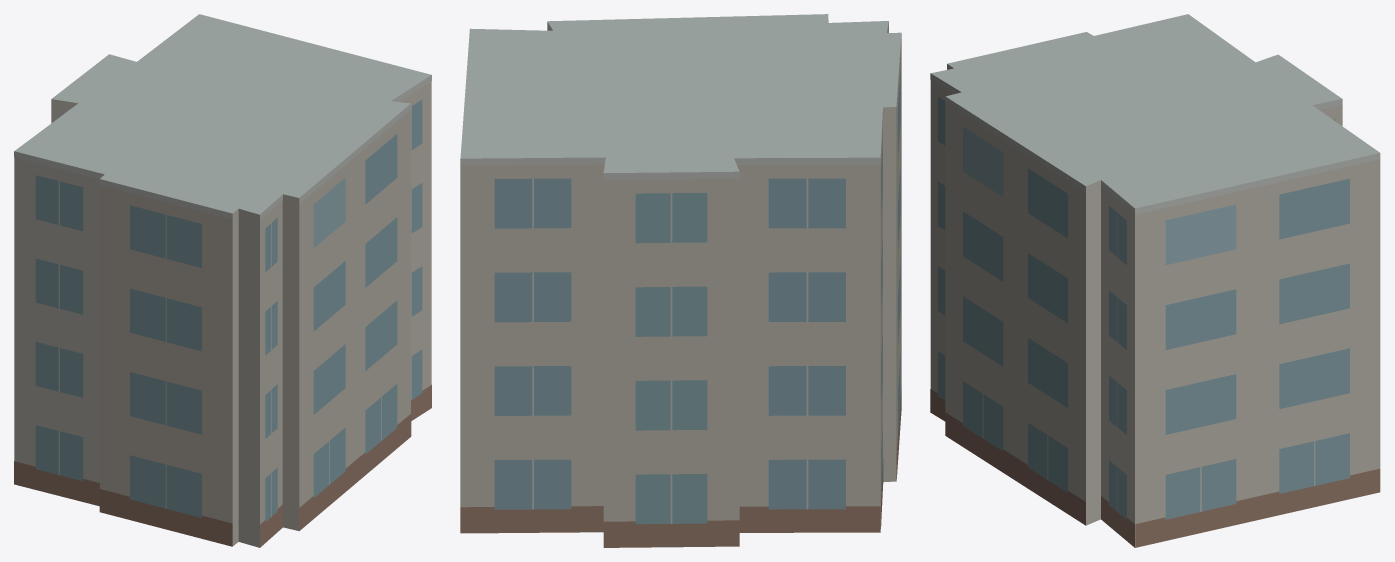
File: survey-upis-32831311.glb
The picture shows the model from 3 angles, left to right: view 1: azimuth 30°, elevation 25°; view 2: azimuth 150°, elevation 25°; view 3: azimuth 270°, elevation 25°; orthographic projection. The views are drawn at different scales.
Visible parts, largest first — view 1: survey-upis-32831311.tmp; view 2: survey-upis-32831311.tmp; view 3: survey-upis-32831311.tmp.
Boxes of the visible parts, x1,y1,x2,y2 form: survey-upis-32831311.tmp: (14,14,431,547); survey-upis-32831311.tmp: (460,14,901,547); survey-upis-32831311.tmp: (930,14,1380,547).
Bounding box in the file's own units: 16.19 × 13.16 × 15.82.
